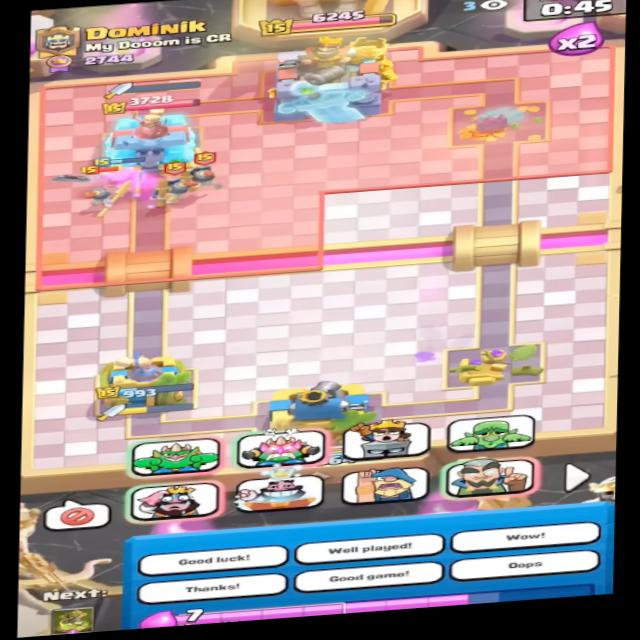guards: (161, 174, 202, 208), (181, 160, 217, 193), (83, 178, 119, 210)
